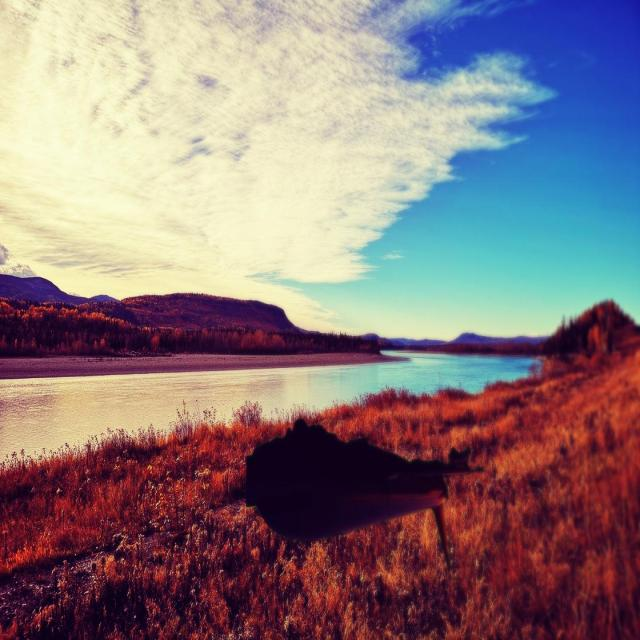airplane: (244, 418, 484, 570)
